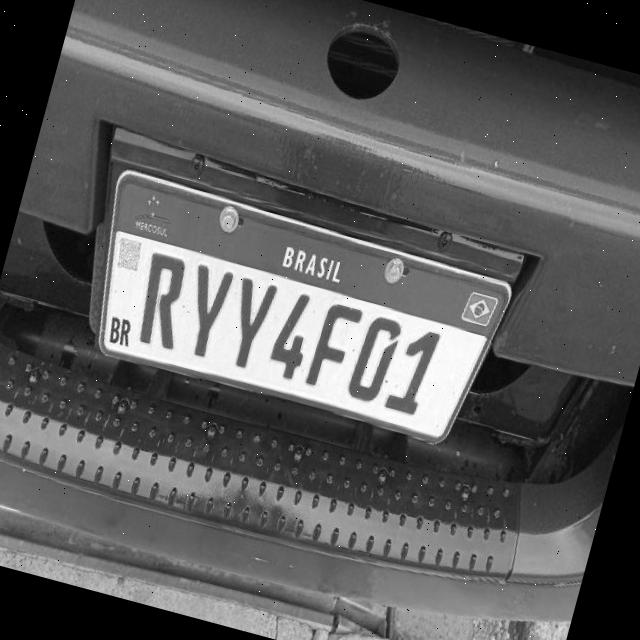placa_mercosul: (98, 170, 510, 442)
